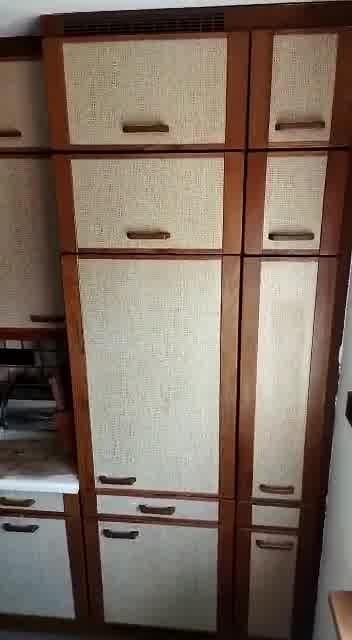cabinet_door: (73, 254, 237, 499), (55, 24, 250, 151), (241, 259, 325, 512), (82, 503, 233, 639), (59, 150, 246, 254), (250, 15, 352, 147), (246, 154, 352, 261), (233, 514, 314, 640), (0, 511, 81, 626)
handle: (273, 103, 329, 136), (119, 111, 172, 140), (123, 221, 175, 247), (266, 224, 317, 247), (137, 497, 178, 525), (256, 478, 298, 500), (102, 520, 140, 544), (2, 514, 40, 538), (254, 533, 294, 555), (95, 471, 138, 491)
